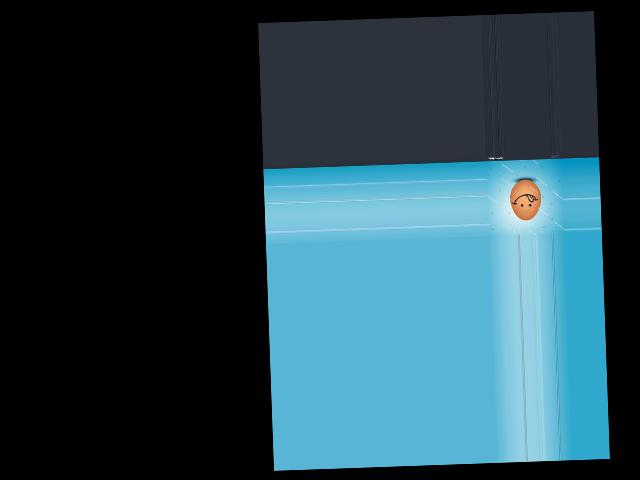egg: (509, 179, 542, 220)
